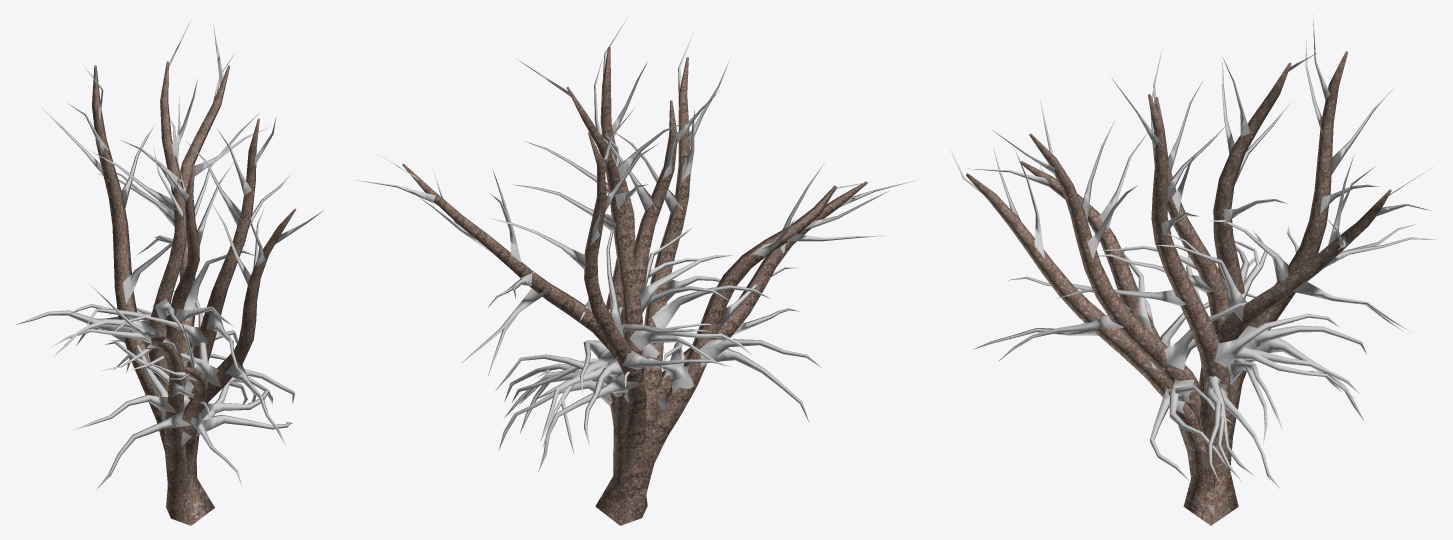
File: tree_dead.obj
The picture shows the model from 3 angles, left to right: view 1: azimuth 30°, elevation 25°; view 2: azimuth 150°, elevation 25°; view 3: azimuth 270°, elevation 25°; orthographic projection. The views are drawn at different scales.
Visible parts, largest first — view 1: bark05, bark02; view 2: bark05, bark02; view 3: bark05, bark02.
Boxes of the visible parts, left/top/right/bottom form: bark05: left=92, top=61, right=296, bottom=525; bark02: left=15, top=17, right=323, bottom=489; bark05: left=402, top=47, right=867, bottom=525; bark02: left=357, top=17, right=916, bottom=472; bark05: left=966, top=51, right=1391, bottom=525; bark02: left=950, top=15, right=1436, bottom=489.
Size of the model in its own units: 1664 by 2256 by 2053.
